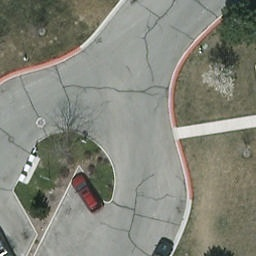car: (69, 175, 105, 216)
